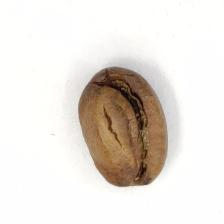NG: (92, 72, 156, 181)
